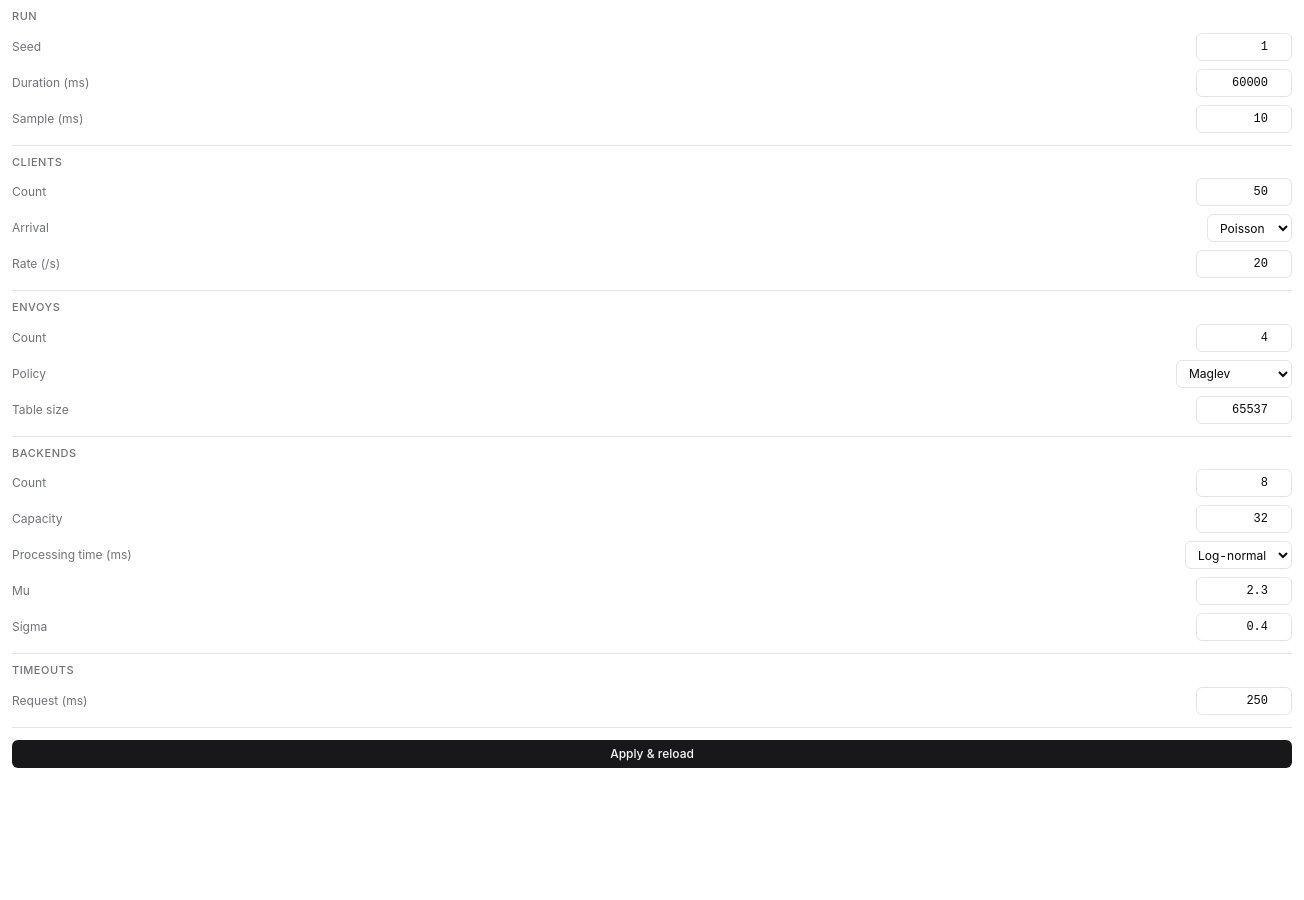
Test: ConfigEditor › Backend processing time (latency distribution) › shows correct params for exponential kind
Select "Exponential" in the dropdown named "Backend processing time distribution kind" at (1238, 555), box [1185,541,1292,569]
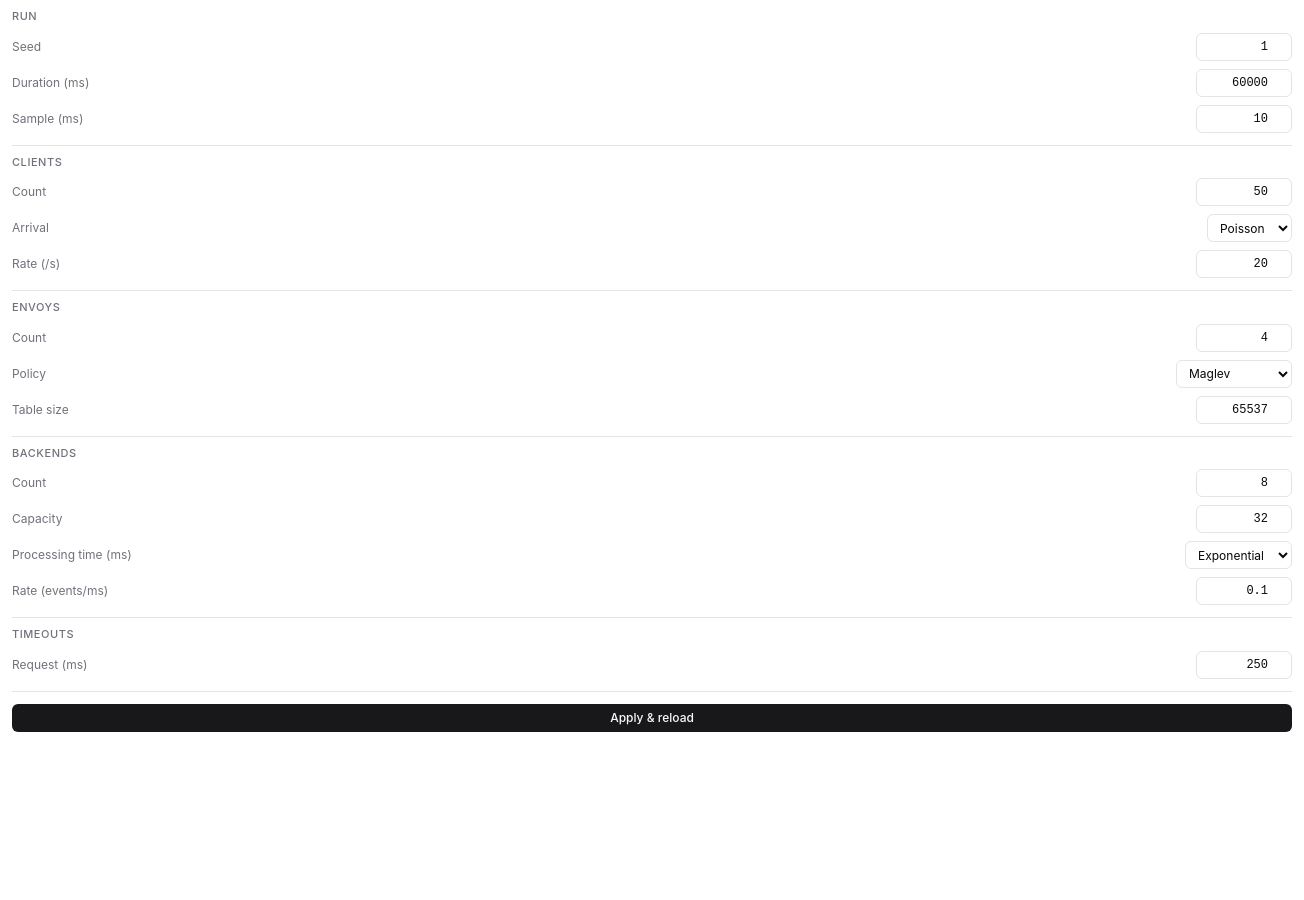
Expected: the number field labelled "Rate (events/ms)" is shown, [1196,577,1292,605]
